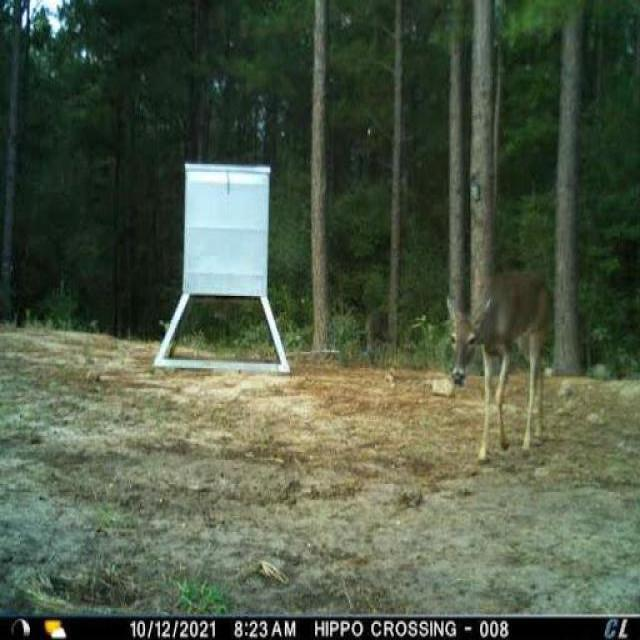deer: (432, 259, 566, 476)
